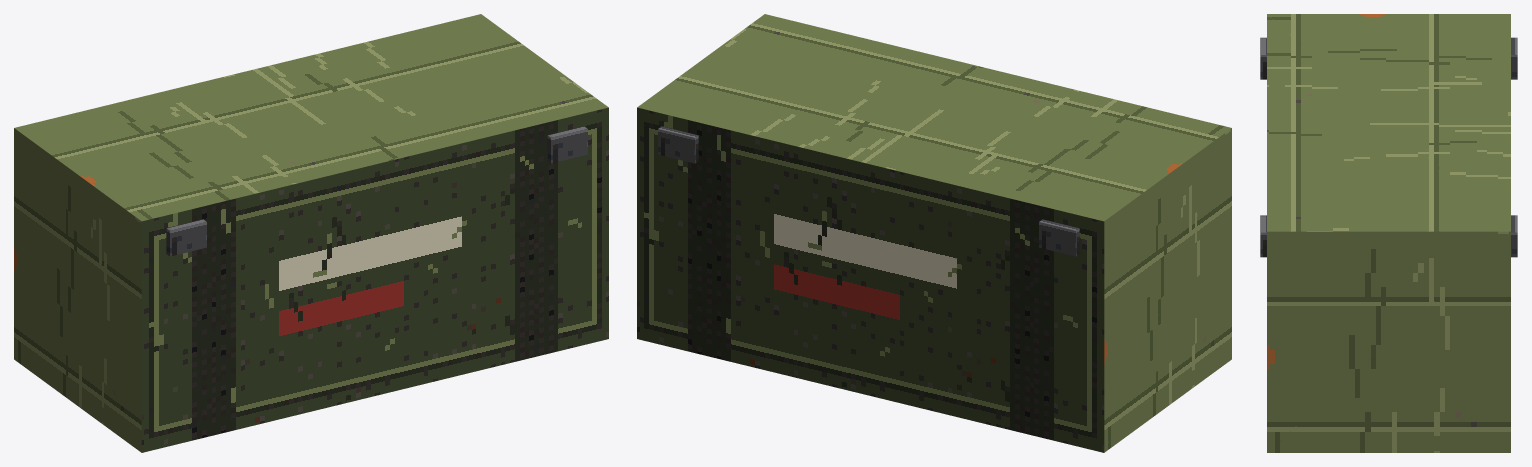
Rendered from SM_Prop_CrateAmmo_01.glb.
The picture shows the model from 3 angles, left to right: view 1: azimuth 30°, elevation 25°; view 2: azimuth 150°, elevation 25°; view 3: azimuth 270°, elevation 25°; orthographic projection. The views are drawn at different scales.
Visible parts, largest first — view 1: SM_Prop_CrateAmmo_01; view 2: SM_Prop_CrateAmmo_01; view 3: SM_Prop_CrateAmmo_01.
Boxes of the visible parts, left/top/right/bottom form: SM_Prop_CrateAmmo_01: left=14, top=14, right=608, bottom=452; SM_Prop_CrateAmmo_01: left=637, top=14, right=1231, bottom=452; SM_Prop_CrateAmmo_01: left=1260, top=14, right=1517, bottom=452.
Bounding box in the file's own units: 0.76 × 0.36 × 0.38.
1 material, 1 textured.
